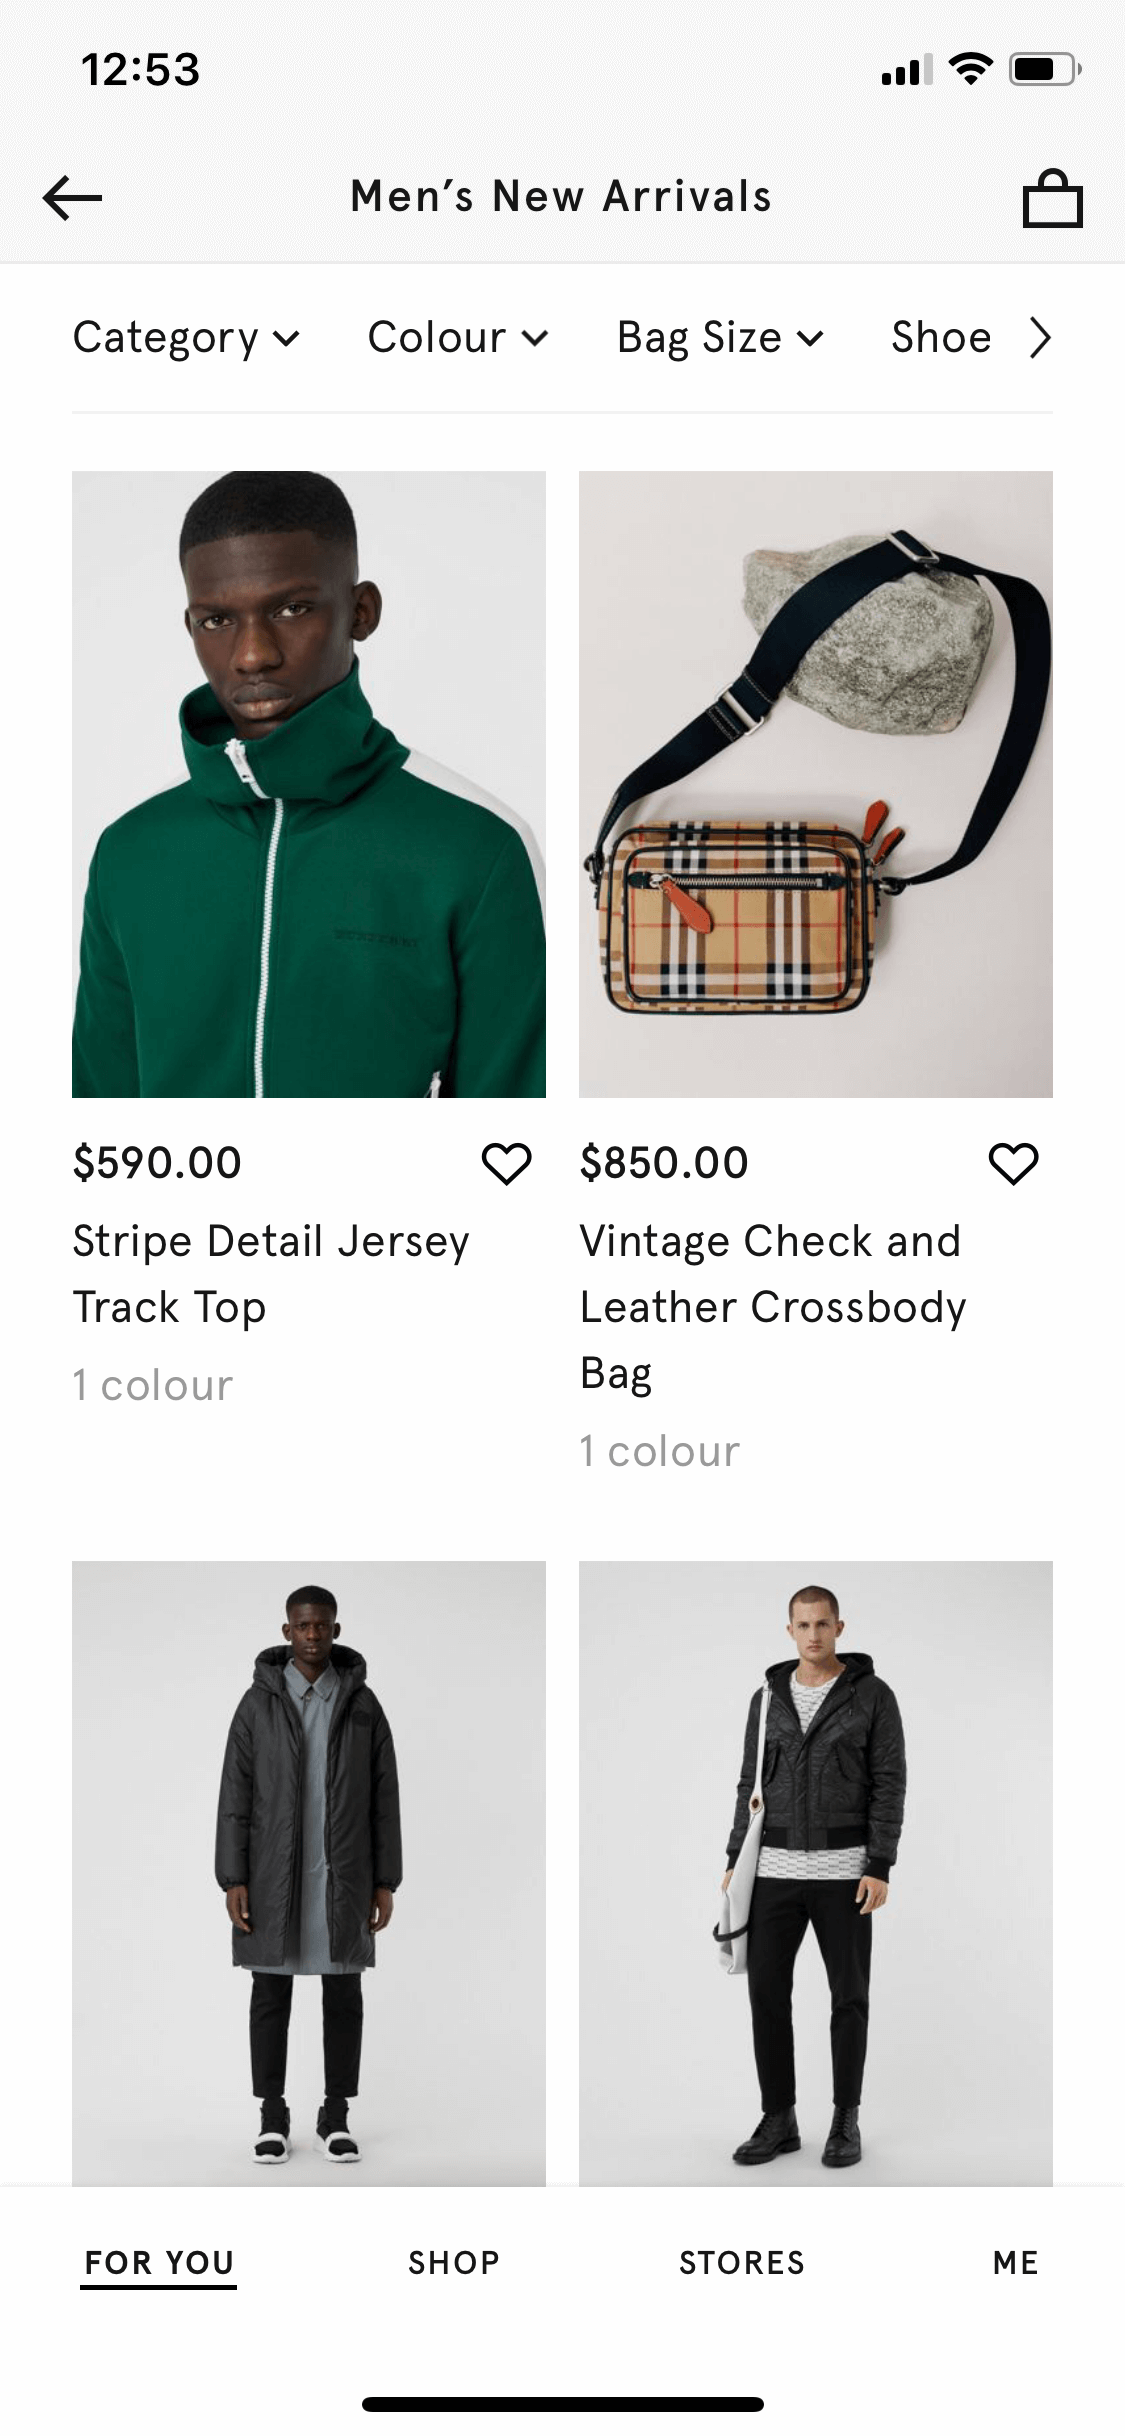Buttons: (987, 134, 1103, 258), (19, 135, 129, 255), (963, 1119, 1057, 1199), (460, 1119, 542, 1201)
